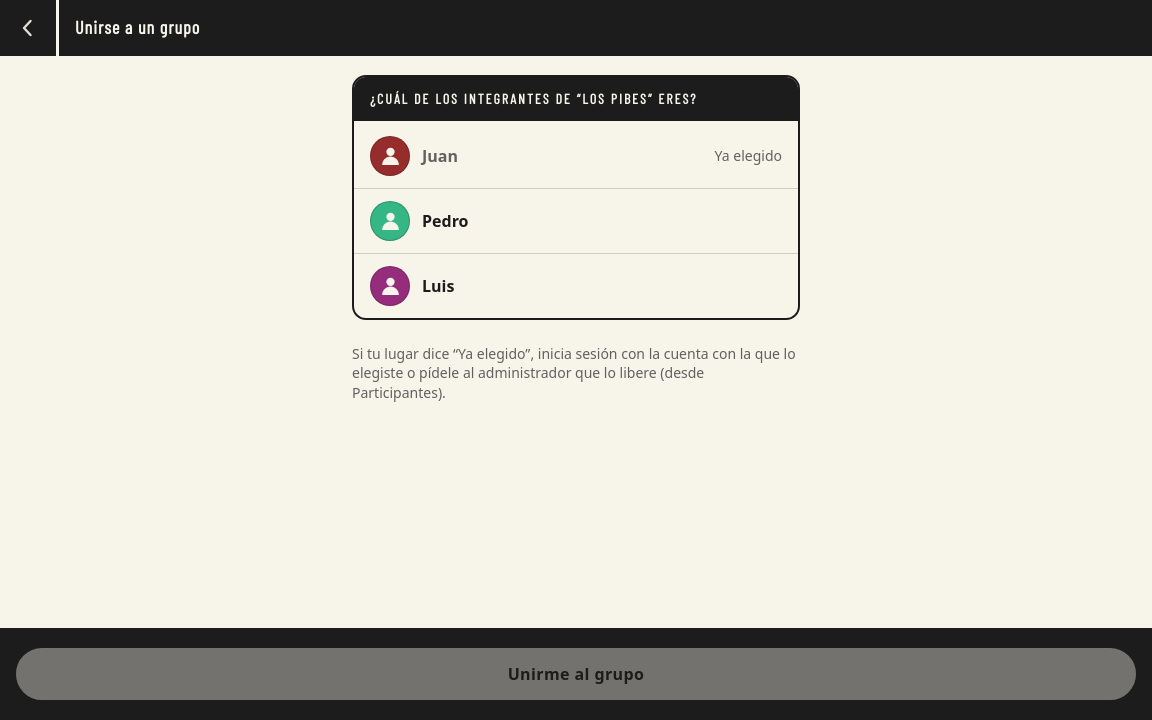
Test: JoinGroupScreen › no entra al grupo si el servidor rechaza un apodo
The width and height of the screenshot is (1152, 720).
Click the radio button labelled "Pedro".
click(390, 221)  # box [354,188,798,253]
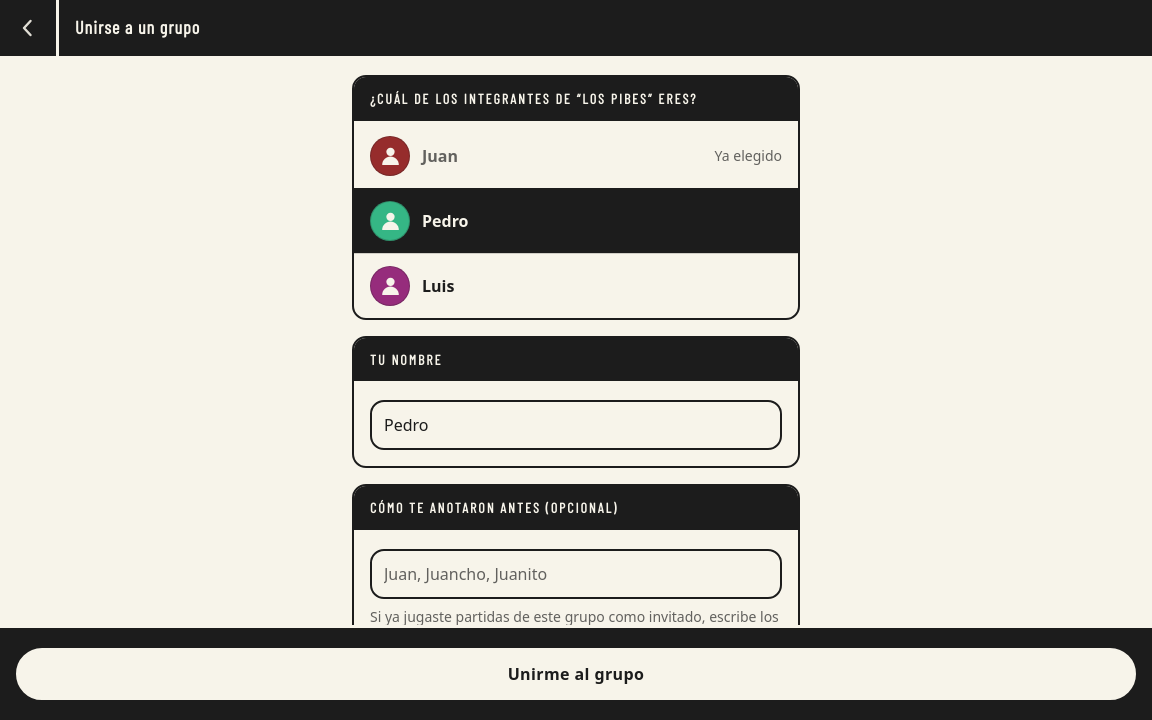
Type "Pepe" into the field named "Apodos".
click(576, 574); type("Pepe")  # box [370,549,782,599]
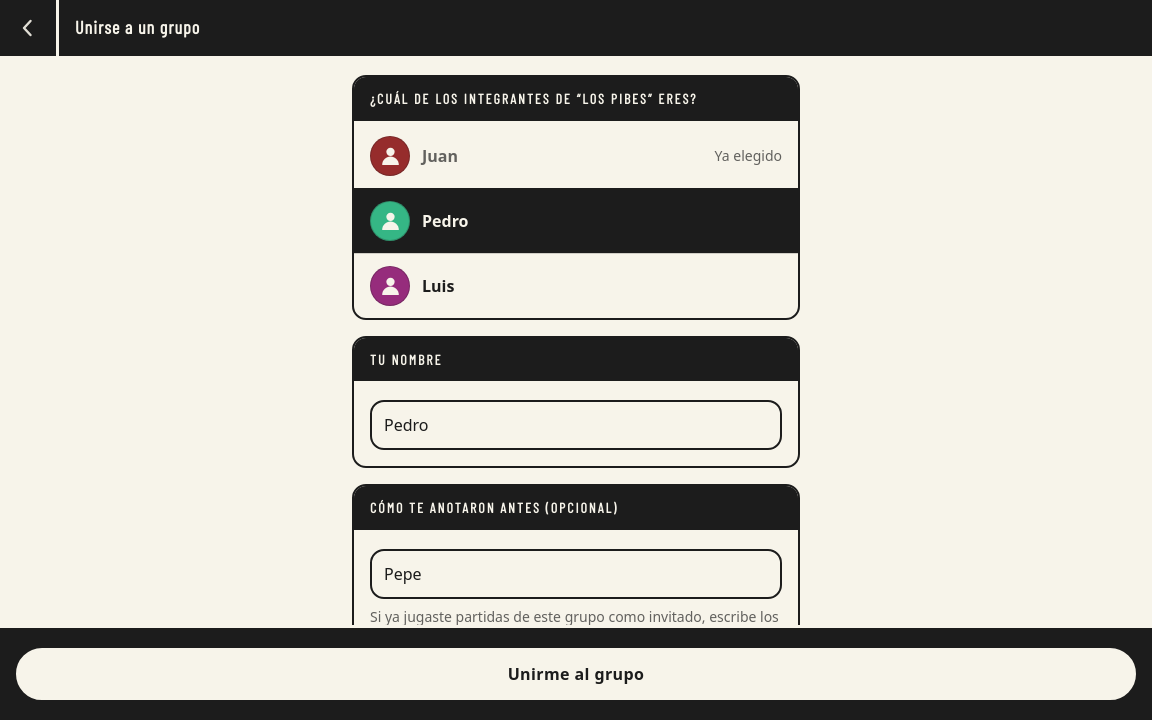
Click the button "Unirme al grupo".
click(576, 674)  # box [16,648,1136,700]
(page scrolled)
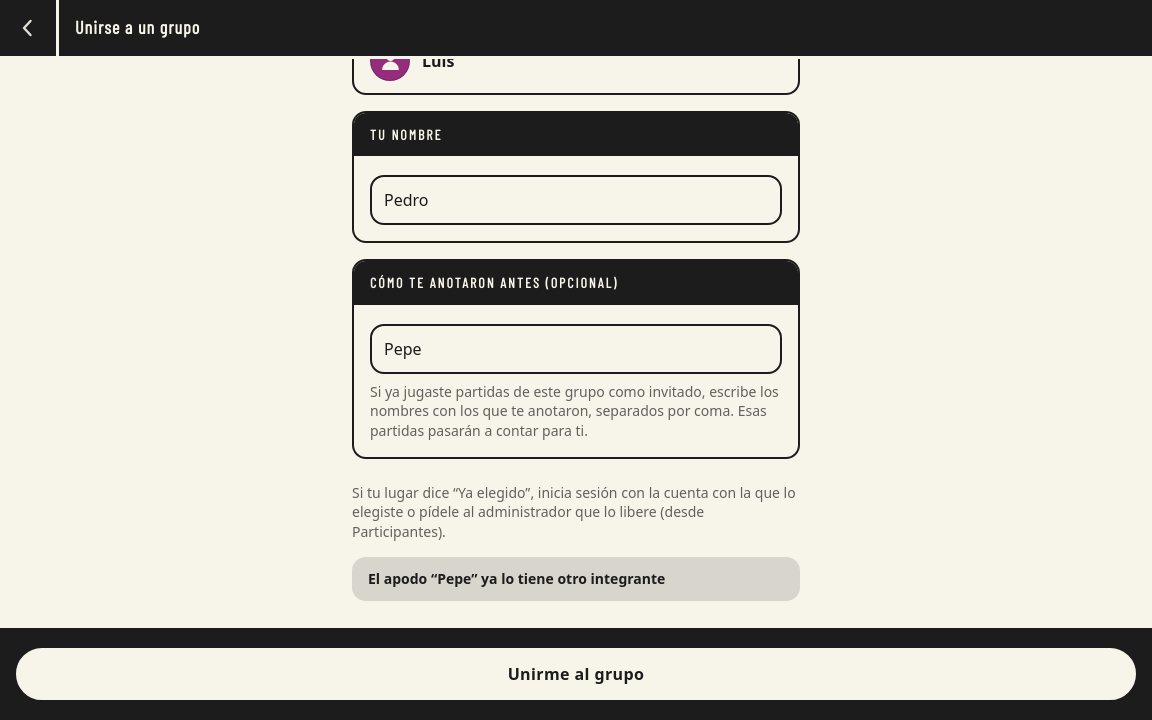
Now the text "El apodo “Pepe” ya lo tiene otro integrante" is shown, box [352,557,800,601]
